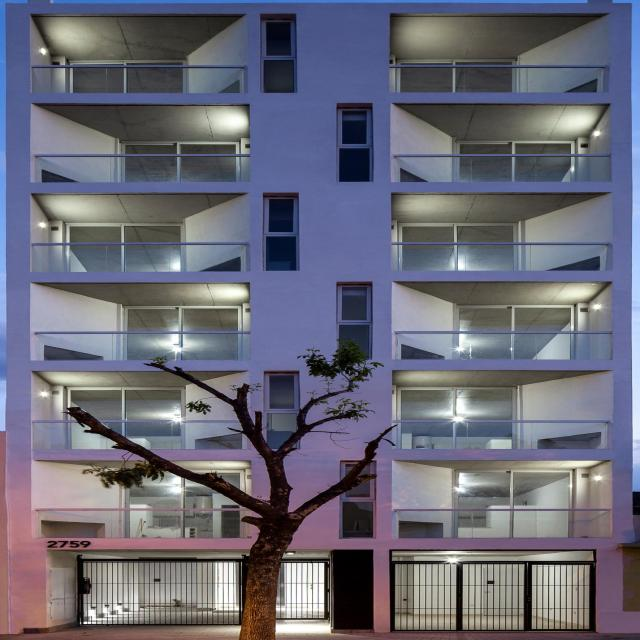door: (390, 550, 588, 632)
railing: (394, 508, 608, 537), (398, 418, 612, 447), (38, 420, 252, 449), (395, 330, 609, 359), (397, 242, 611, 271), (39, 242, 253, 271), (392, 64, 606, 93), (389, 151, 603, 180), (35, 152, 249, 181), (33, 63, 247, 92), (40, 510, 254, 538), (41, 332, 255, 360)
window: (448, 468, 573, 508), (395, 385, 517, 419), (123, 475, 245, 508), (62, 387, 186, 419), (117, 305, 243, 331), (454, 305, 575, 329), (397, 221, 524, 243), (336, 282, 373, 356), (63, 223, 189, 244), (340, 463, 374, 539), (338, 109, 372, 182), (267, 198, 297, 270), (266, 17, 294, 91), (456, 141, 578, 152), (115, 141, 237, 152), (269, 374, 300, 411)
